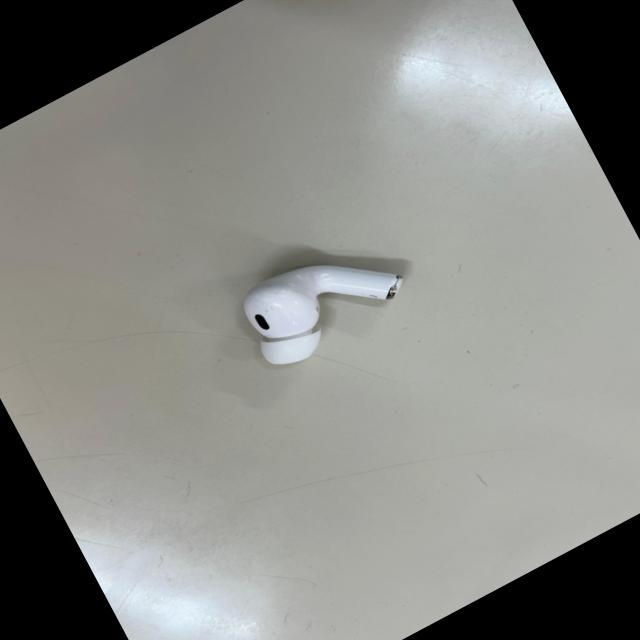inorganic: (236, 221, 415, 375)
